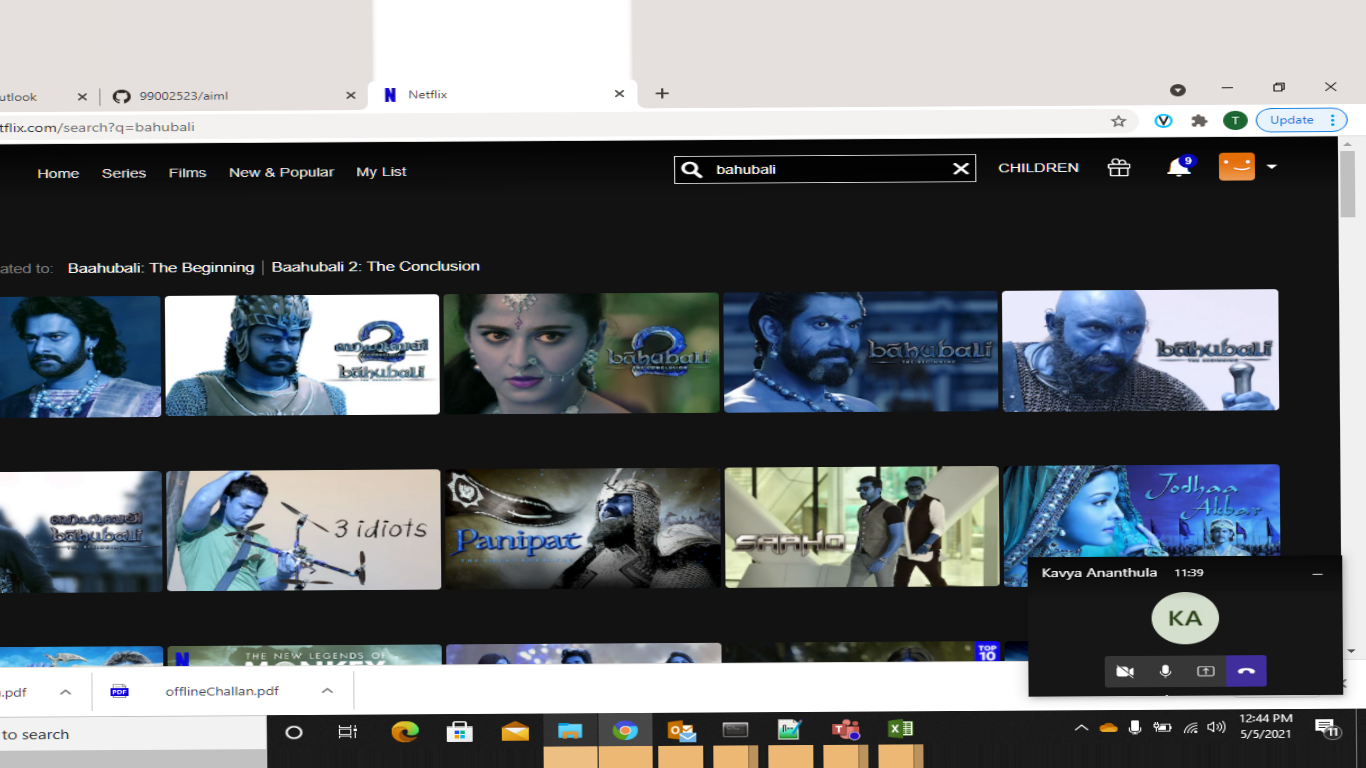mywatchlistbutton: (352, 152, 416, 185)
profileicon: (1215, 146, 1285, 192)
resultsfound: (1, 256, 501, 286)
searchicon: (671, 151, 705, 185)
searchtextbox: (670, 142, 977, 181)
